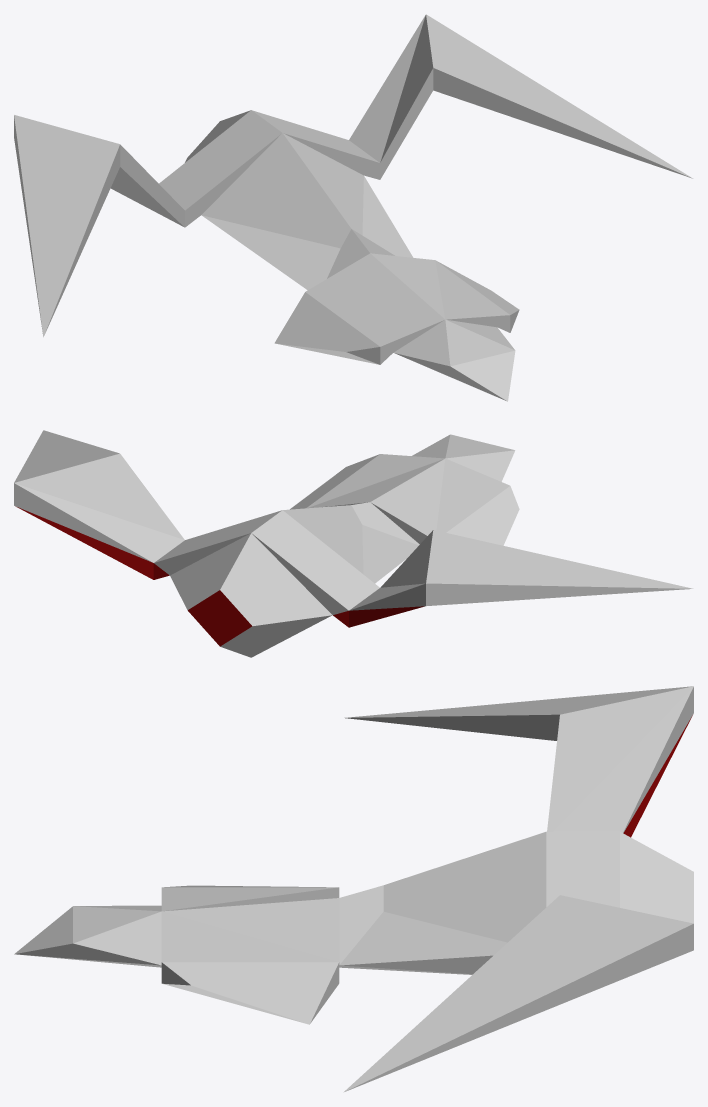
Rendered from Ray Dagger 2.obj.
3 renders of one model, top to bottom at view 1: azimuth 30°, elevation 25°; view 2: azimuth 150°, elevation 25°; view 3: azimuth 270°, elevation 25°, orthographic. The views are drawn at different scales.
Visible parts, largest first — view 1: RayDagger; view 2: RayDagger; view 3: RayDagger.
Part boxes in pixels (bbox=[...]): RayDagger: bbox=[14, 14, 692, 401]; RayDagger: bbox=[14, 430, 693, 657]; RayDagger: bbox=[14, 686, 693, 1092].
Bounding box in the file's own units: 2.4 × 0.52 × 1.84.
